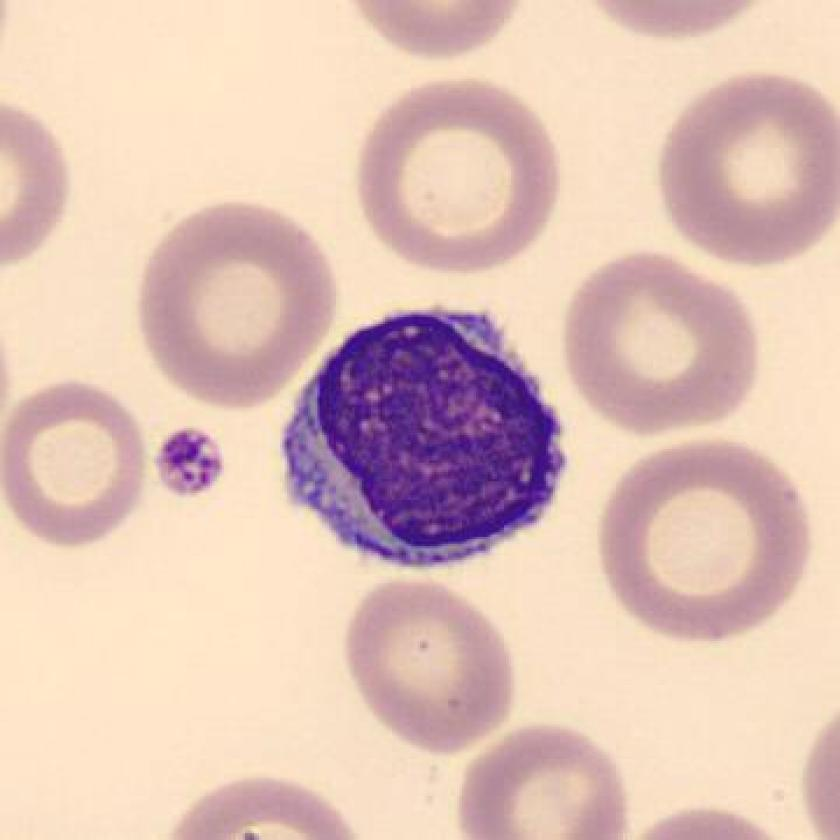lymphocyte: (255, 291, 582, 594)
platelets: (154, 423, 230, 506)
